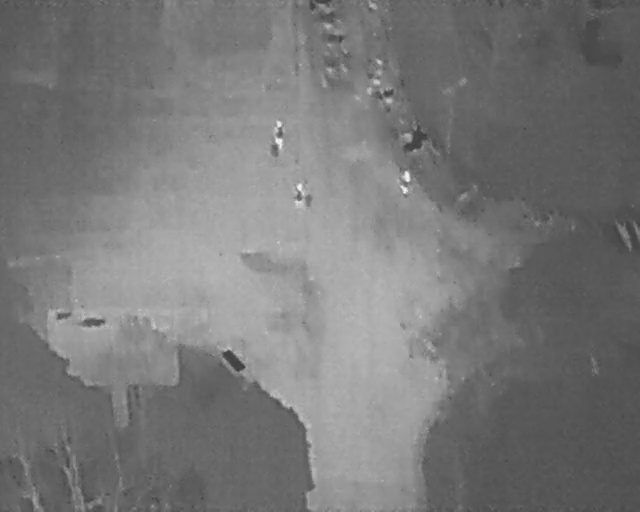Bicycle: (395, 121, 434, 158), (364, 82, 398, 106), (321, 56, 350, 76), (320, 30, 348, 48), (315, 9, 343, 26), (307, 0, 334, 11)
Person: (272, 118, 286, 151), (399, 169, 411, 200), (294, 180, 304, 205)
